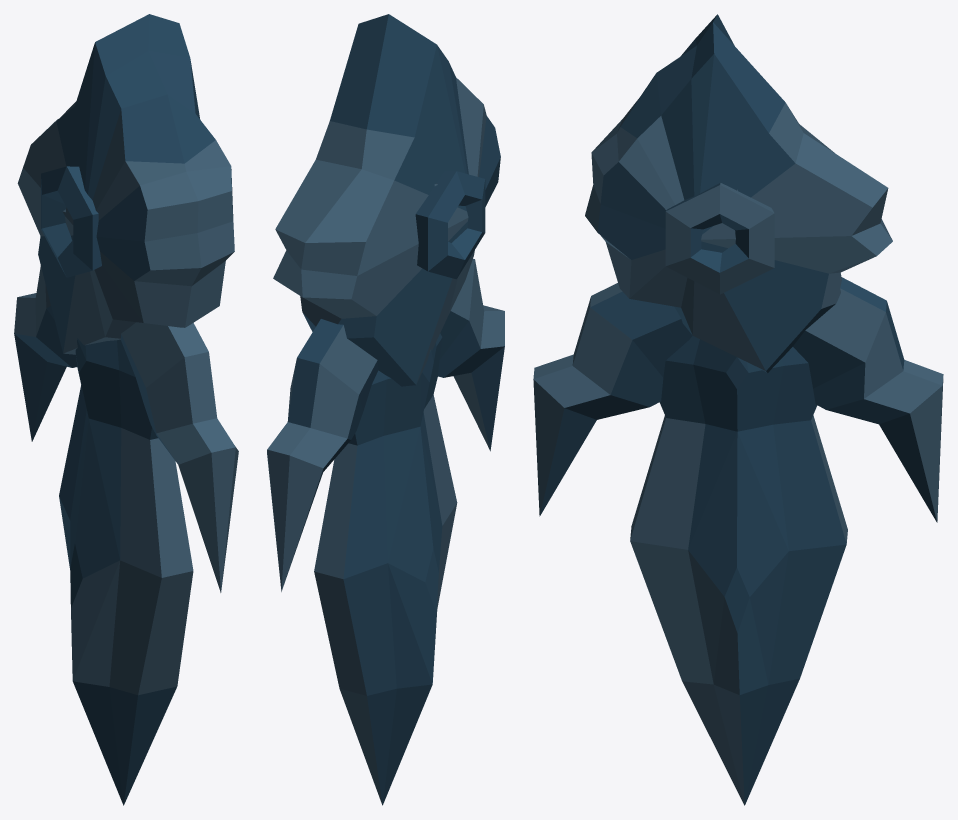
The model's file is Wampa_Spike.fbx.
The picture shows the model from 3 angles, left to right: view 1: azimuth 30°, elevation 25°; view 2: azimuth 150°, elevation 25°; view 3: azimuth 270°, elevation 25°; orthographic projection. The views are drawn at different scales.
Parts seen in each view (by area): view 1: Wampa_Spike; view 2: Wampa_Spike; view 3: Wampa_Spike.
Boxes of the visible parts, box(x1,y1,x2,y2) form: Wampa_Spike: box(14, 14, 238, 805); Wampa_Spike: box(267, 14, 504, 805); Wampa_Spike: box(533, 14, 943, 805).
Size of the model in its own units: 0.3033 by 1.55 by 0.7297.
